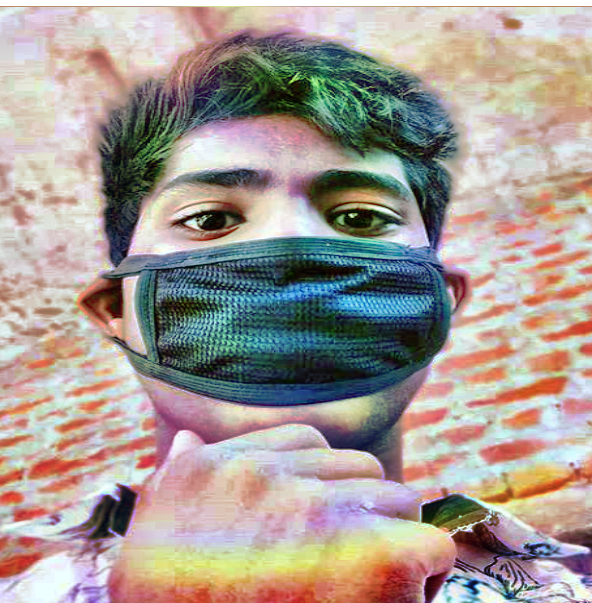mask_weared_incorrect: (84, 34, 472, 457)
